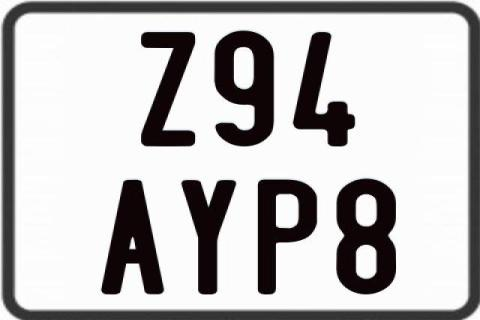0: (292, 30, 357, 146), (333, 178, 394, 298), (212, 31, 273, 147)
A: (99, 178, 167, 296)
P: (255, 177, 317, 297)
Y: (179, 180, 234, 294)
Z: (140, 32, 198, 151)
